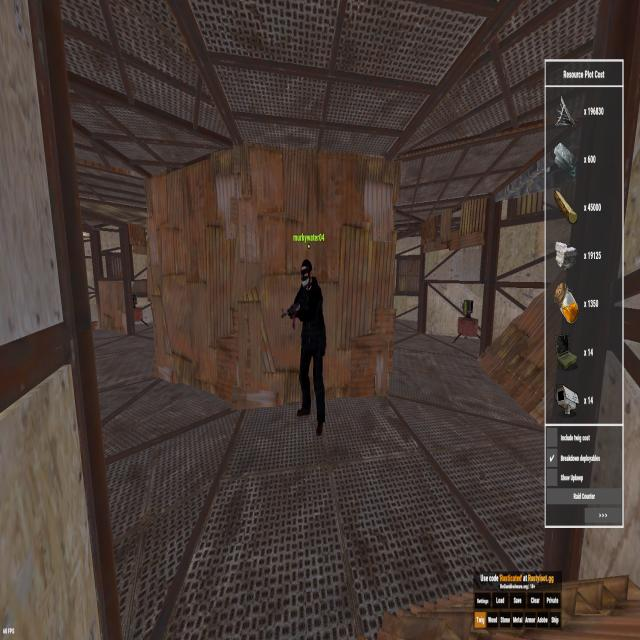Player: (286, 253, 331, 442)
